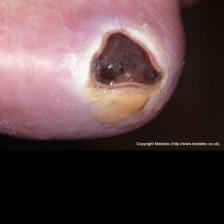Wound: (73, 17, 175, 124)
